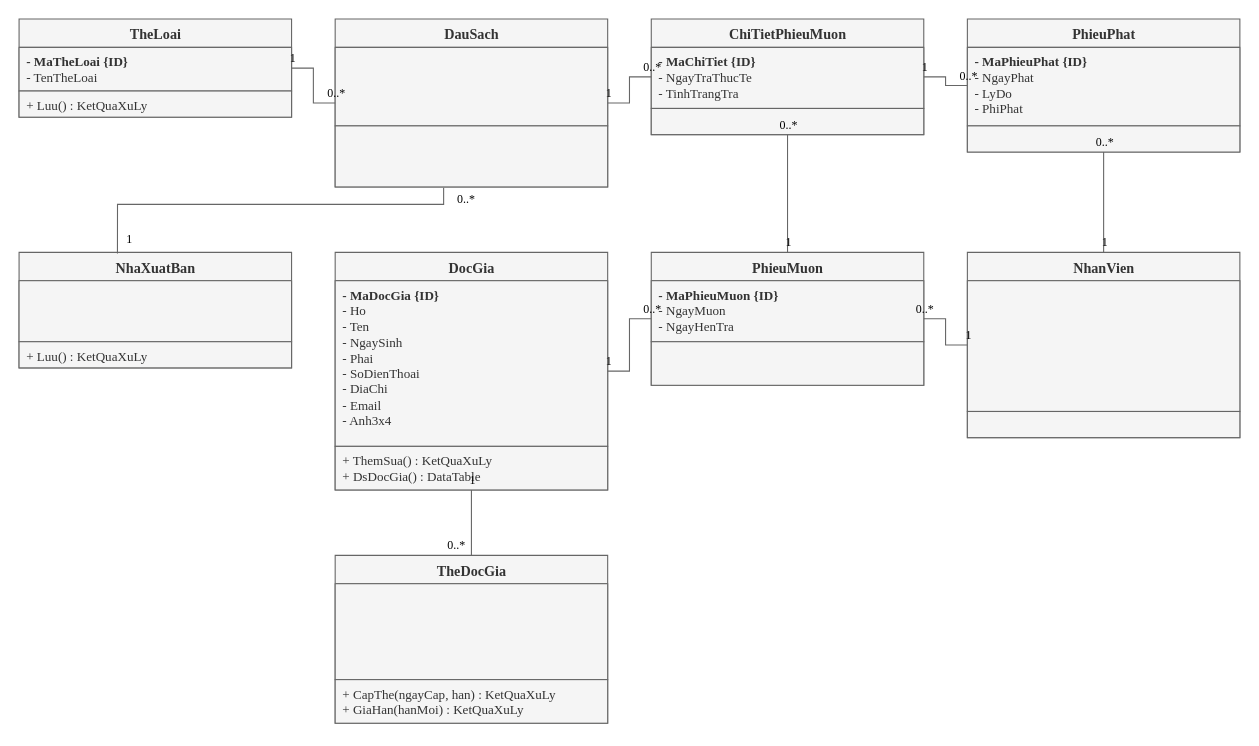
Image size: 1259x746. Some labels were removed from this diagram. Here are the shapes that lost their labels. From the top down, the box of each, then its label:
(334, 46, 608, 126): - MaDauSach {ID} - TenSach - NamXuatBan - SoLuongHienCo
(650, 107, 924, 135): + TraSach(tinhTrang, phi) : KetQuaXuLy
(966, 125, 1240, 152): + LapPhieuPhat() : bool
(334, 125, 608, 187): + ThemSua() : KetQuaXuLy + Xoa() : KetQuaXuLy + TimKiem(tuKhoa) : DataTable
(18, 280, 292, 342): - MaNhaXuatBan {ID} - DiaChi - SoDienThoai
(650, 341, 924, 385): + KiemTraDieuKien(maDG, soSach) + LapPhieu(dsSach) : KetQuaXuLy
(966, 280, 1240, 411): - MaNhanVien {ID} - Ho - Ten - Phai - NgaySinh - ChucVu - SoDienThoai
(966, 410, 1240, 438): + ThemSua() : KetQuaXuLy
(334, 583, 608, 680): - MaThe {ID} - NgayCap - HanSuDung - DaDongLePhi - TrangThai
